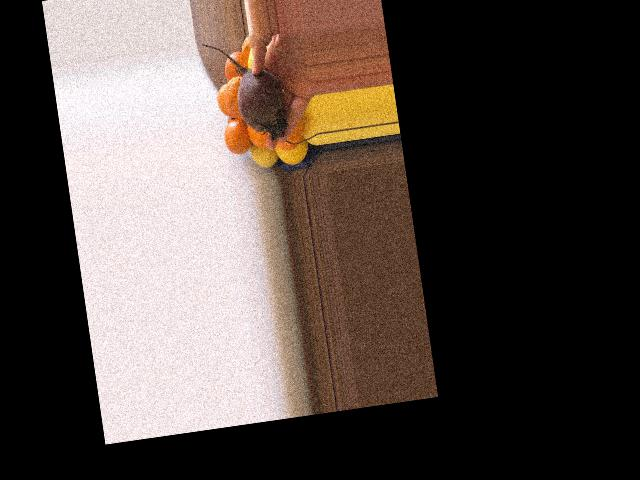beet: (202, 34, 289, 147)
